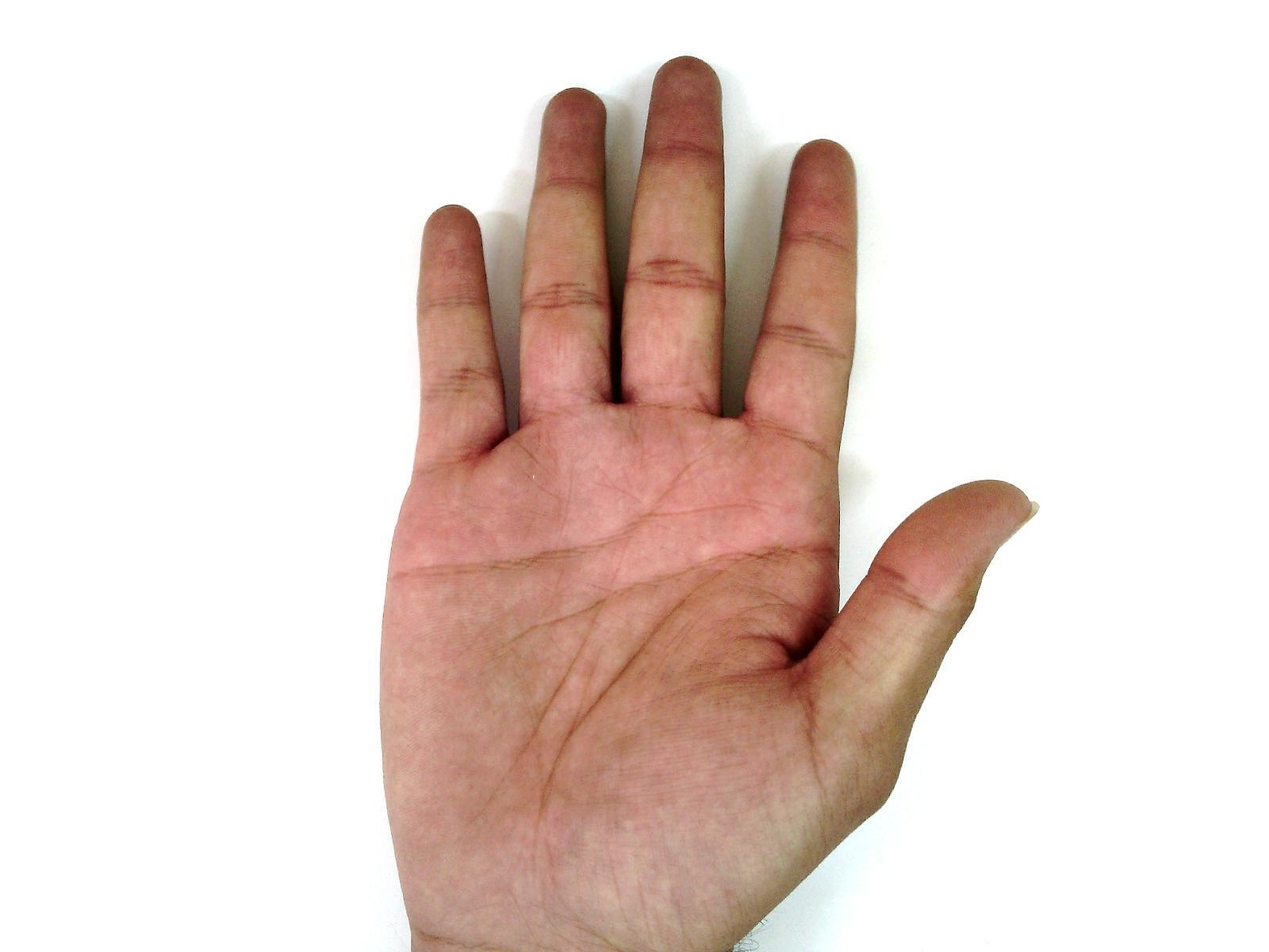open_palm: (374, 55, 1041, 951)
